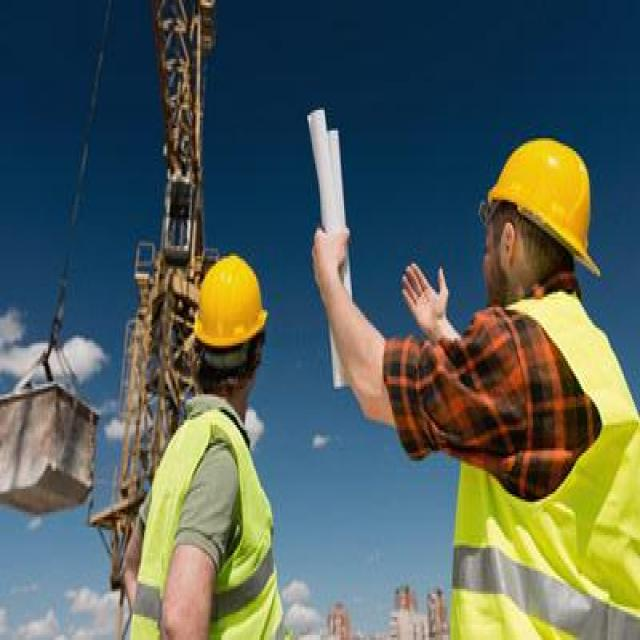Reflective-Jacket: (437, 286, 640, 640), (118, 399, 286, 640)
Safety-Helmet: (482, 128, 602, 266), (186, 243, 275, 364)
